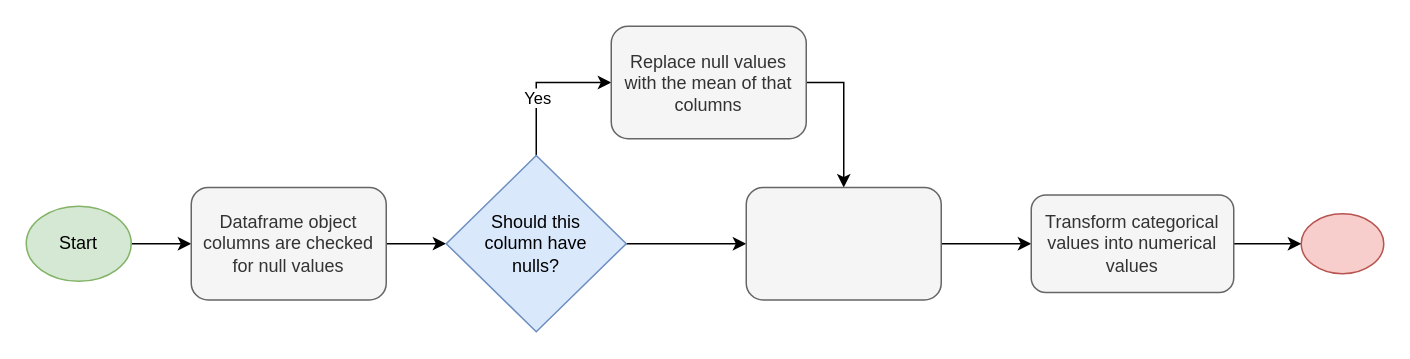
Image size: 1410x359. Some labels were removed from this diagram. Each missing label, with the box of its shape:
Check if each columns has the appropiate data type: (745, 186, 941, 300)
End: (1300, 212, 1384, 274)
